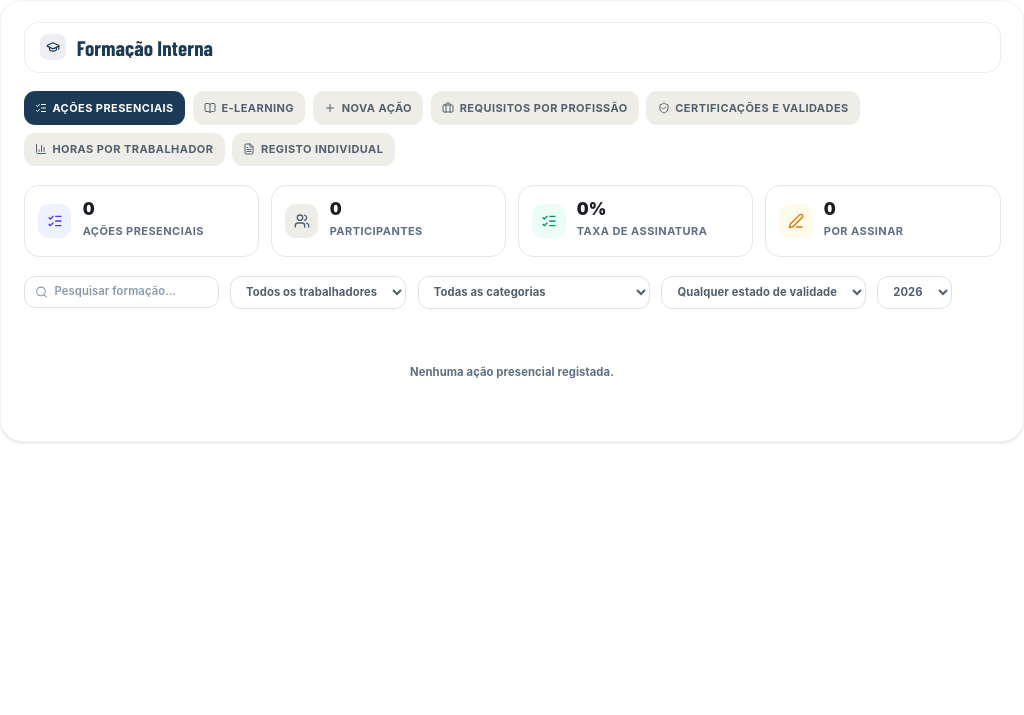
Test: FormacaoInternaAdmin — smoke › monta as 5 tabs sem lançar exceções
Expected: the text "Nenhuma ação presencial registada." is shown, [410,365,614,379]
Click the button "E-learning": point(249, 108) [192,91,305,125]
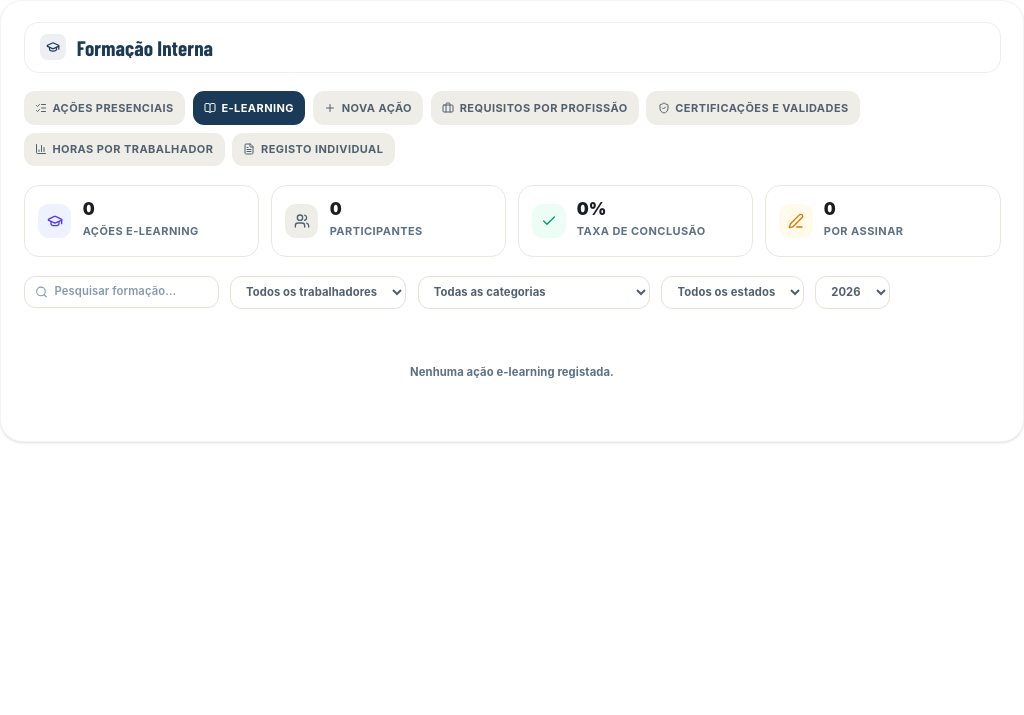
Result: the text "Nenhuma ação e-learning registada." is shown at [410,365,614,379]
Click the button "Nova Ação": point(368, 108) [313,91,423,125]
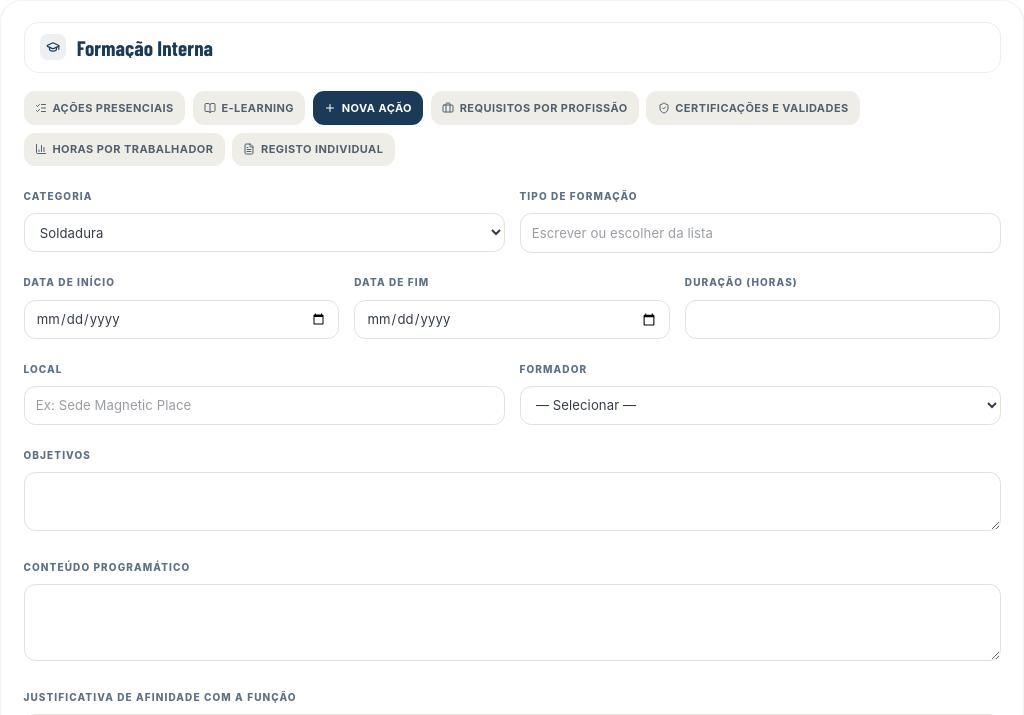
Result: the text "Tipo de Formação" is shown at [520,190,638,202]
Result: the text "Categoria" is shown at [24,190,93,202]
Click the button "Certificações e Validades": point(753, 108) [646,91,860,125]
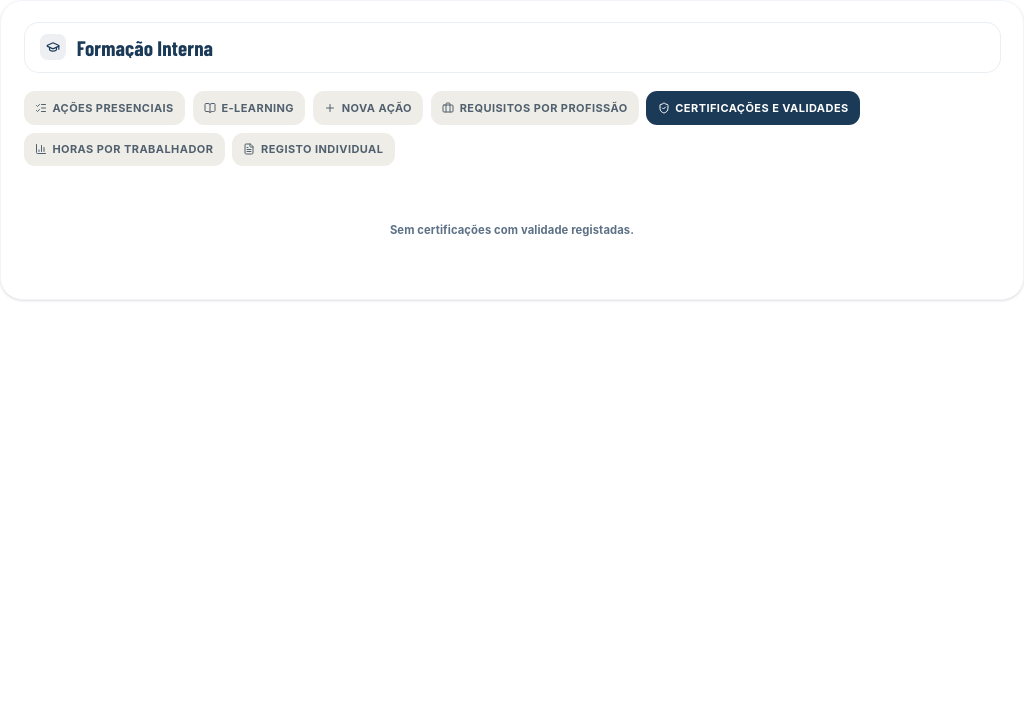
Result: the text "Sem certificações com validade registadas." is shown at [390,222,634,236]
Click the button "Horas por Trabalhador": point(124, 149) [24,132,225,166]
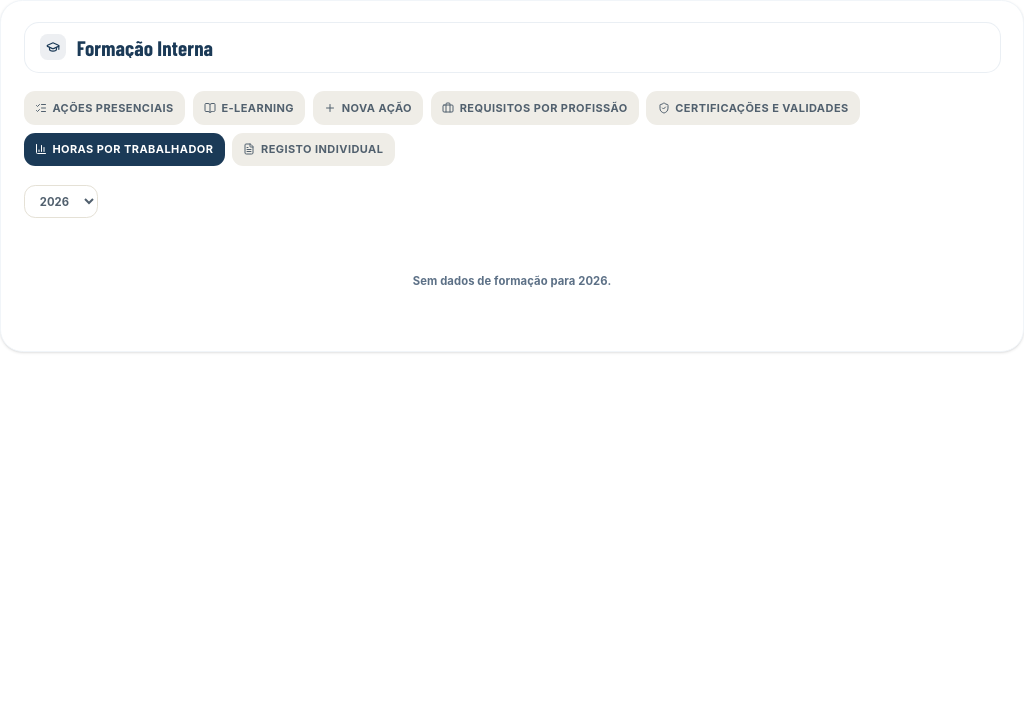
Result: the text "Sem dados de formação para 2026." is shown at [413,274,611,288]
